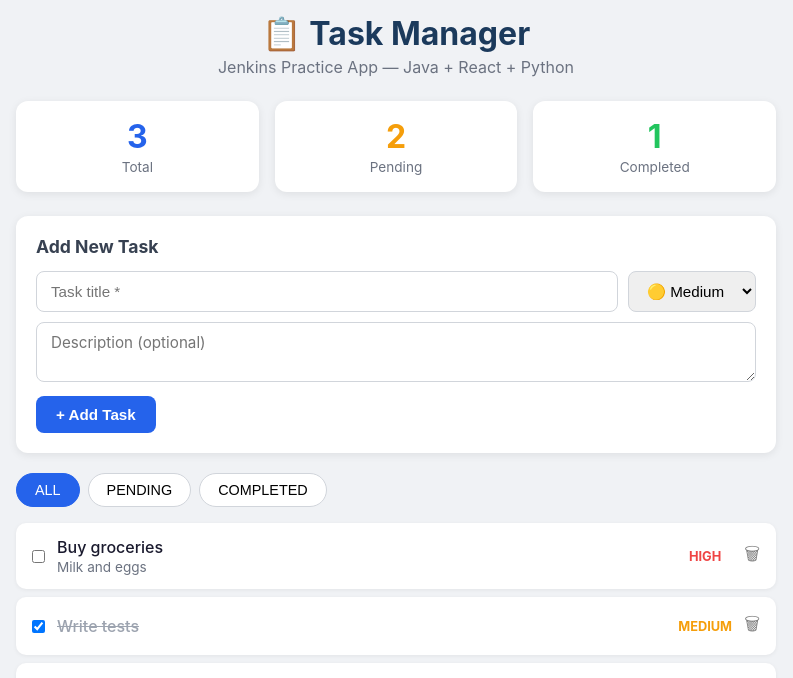
Test case: TaskForm › shows validation error when title is empty
The width and height of the screenshot is (793, 678).
Expected: the form with test id "task-form" is shown, [16, 216, 776, 453]
Click the button "+ Add Task".
click(96, 414)  # box [36, 396, 156, 433]
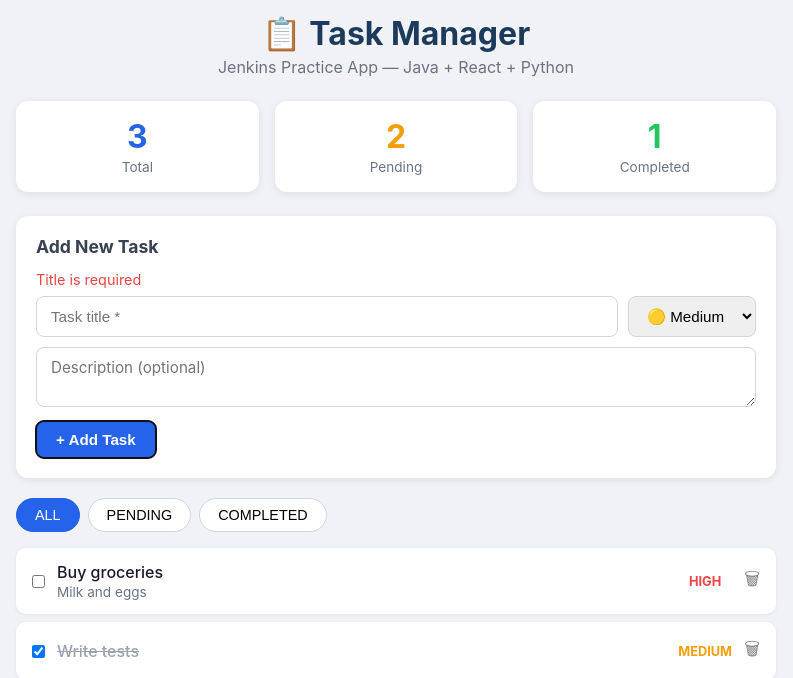
Now the text "Title is required" is shown, box [36, 271, 141, 288]
